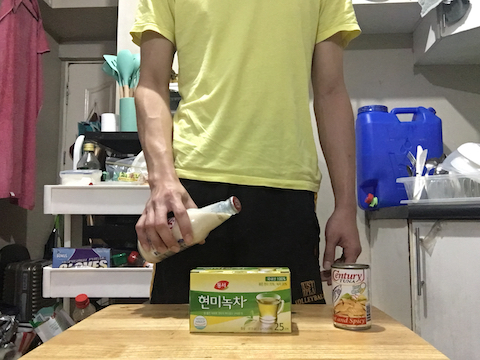bottle: (136, 193, 247, 264)
box: (187, 264, 295, 336)
can: (329, 259, 374, 332)
grab: (134, 192, 195, 254)
